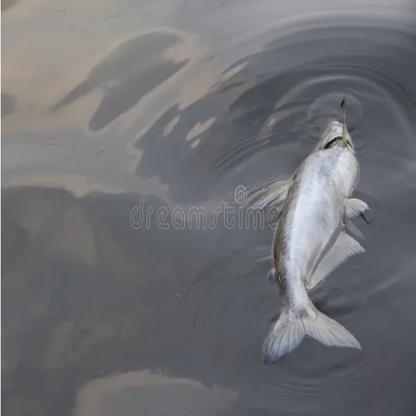deceased fish: (256, 104, 364, 363)
